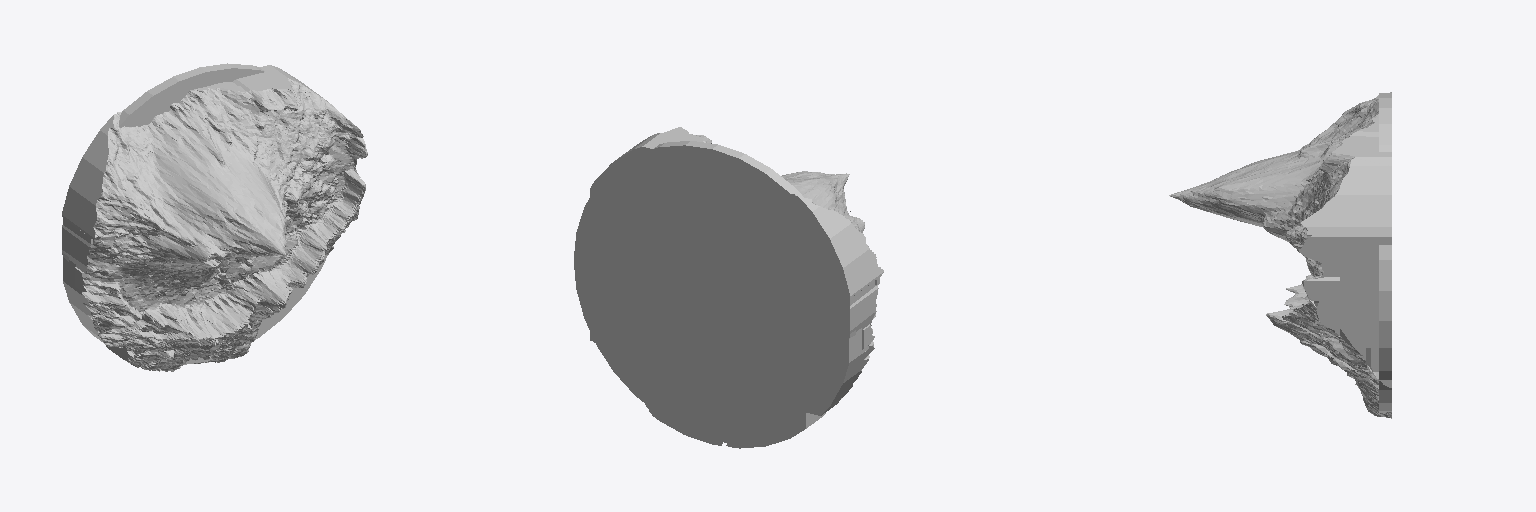
3 renders of one model, left to right at view 1: azimuth 30°, elevation 25°; view 2: azimuth 150°, elevation 25°; view 3: azimuth 270°, elevation 25°, orthographic.
Parts seen in each view (by area): view 1: obj_0; view 2: obj_0; view 3: obj_0.
Boxes of the visible parts, x1=… form: obj_0: x1=62, y1=63, x2=367, y2=371; obj_0: x1=574, y1=127, x2=883, y2=448; obj_0: x1=1169, y1=92, x2=1391, y2=418.
Size of the model in its own units: 50 by 51 by 35.